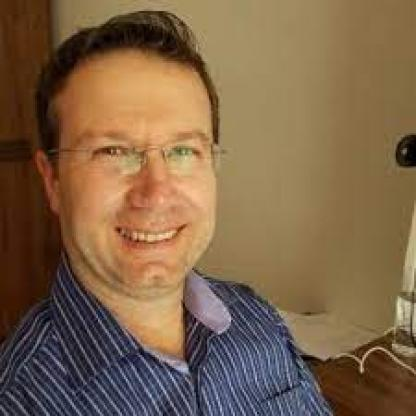person: (28, 14, 226, 301)
